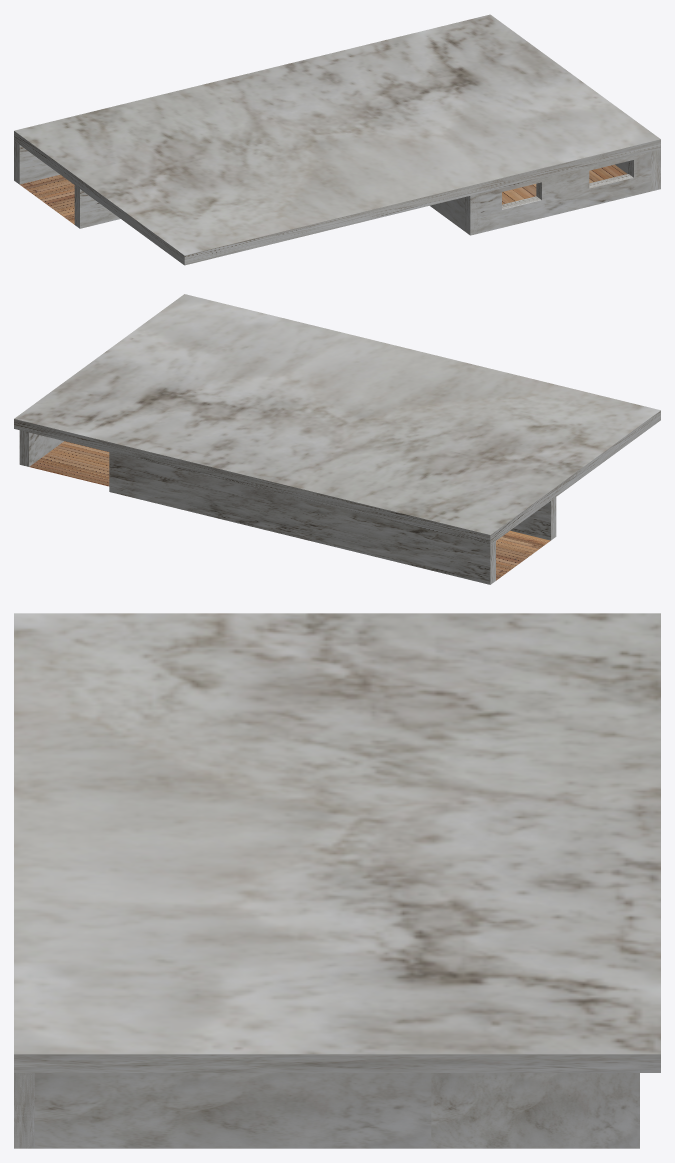
File: Kyoshitsu_part3.fbx
The picture shows the model from 3 angles, top to bottom: view 1: azimuth 30°, elevation 25°; view 2: azimuth 150°, elevation 25°; view 3: azimuth 270°, elevation 25°; orthographic projection. The views are drawn at different scales.
Visible parts, largest first — view 1: pCube18, pCube3, pPlane2, pCube7, pCube9, pCube2, pPlane1, pCube1; view 2: pCube18, pCube9, pPlane2, pCube7, pCube10; view 3: pCube18, pCube1, pCube10, pCube3.
Part boxes in pixels (<box>): pCube18: <box>14,14,660,265</box>; pCube3: <box>465,149,660,235</box>; pPlane2: <box>20,174,74,224</box>; pCube7: <box>74,185,120,228</box>; pCube9: <box>14,141,59,184</box>; pCube2: <box>430,194,479,234</box>; pPlane1: <box>502,164,626,204</box>; pCube1: <box>615,149,660,191</box>; pCube18: <box>14,294,660,544</box>; pCube9: <box>109,452,495,584</box>; pPlane2: <box>29,441,550,580</box>; pCube7: <box>510,497,556,540</box>; pCube10: <box>19,430,63,466</box>; pCube18: <box>14,613,660,1072</box>; pCube1: <box>14,1073,431,1148</box>; pCube10: <box>431,1073,639,1148</box>; pCube3: <box>14,1073,34,1148</box>.
Size of the model in its own units: 25 by 2.5 by 15.5.
Materials: 2 (2 with a texture image).
